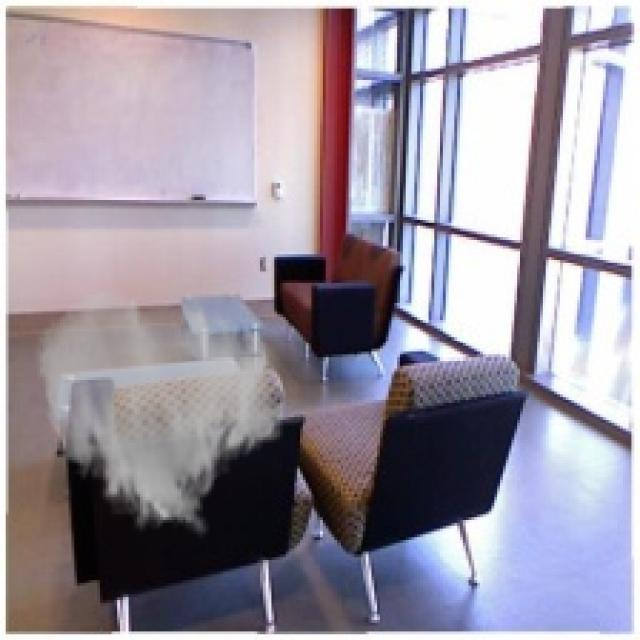Smoke: (34, 283, 289, 540)
